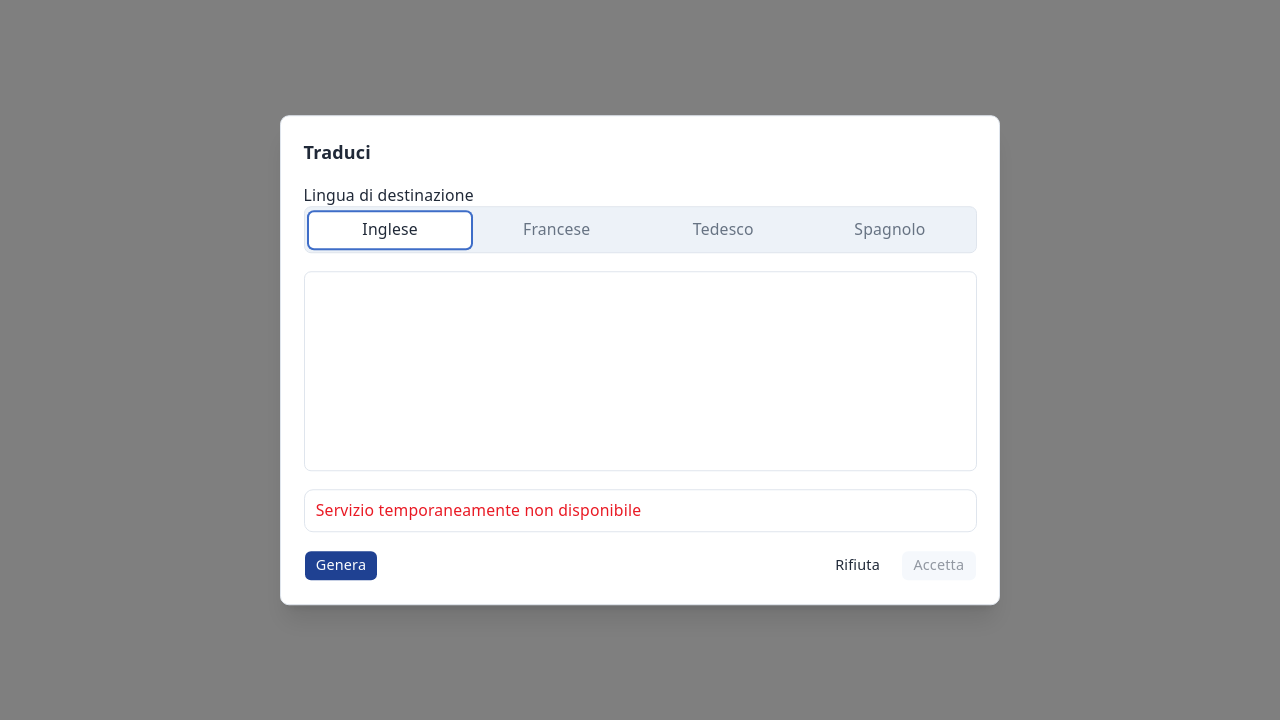
Test: AiActionDialog — l anteprima non sopravvive al cambio di richiesta › l errore della richiesta precedente sparisce con essa
This screenshot has width=1280, height=720.
Expected: the message "Servizio temporaneamente non disponibile" is shown, [304,489,976,532]
Click the radio button labelled "Tedesco".
click(723, 230)  # box [642,212,804,248]
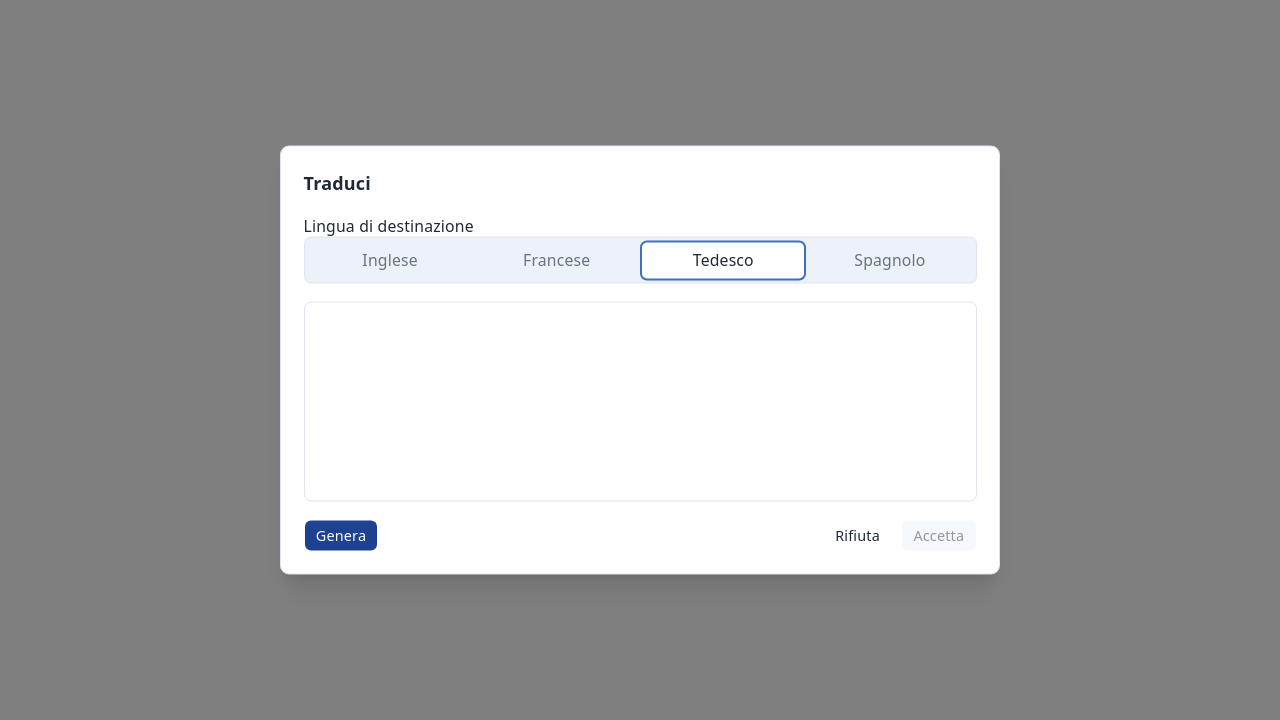
Result: the message "Servizio temporaneamente non disponibile" is gone
